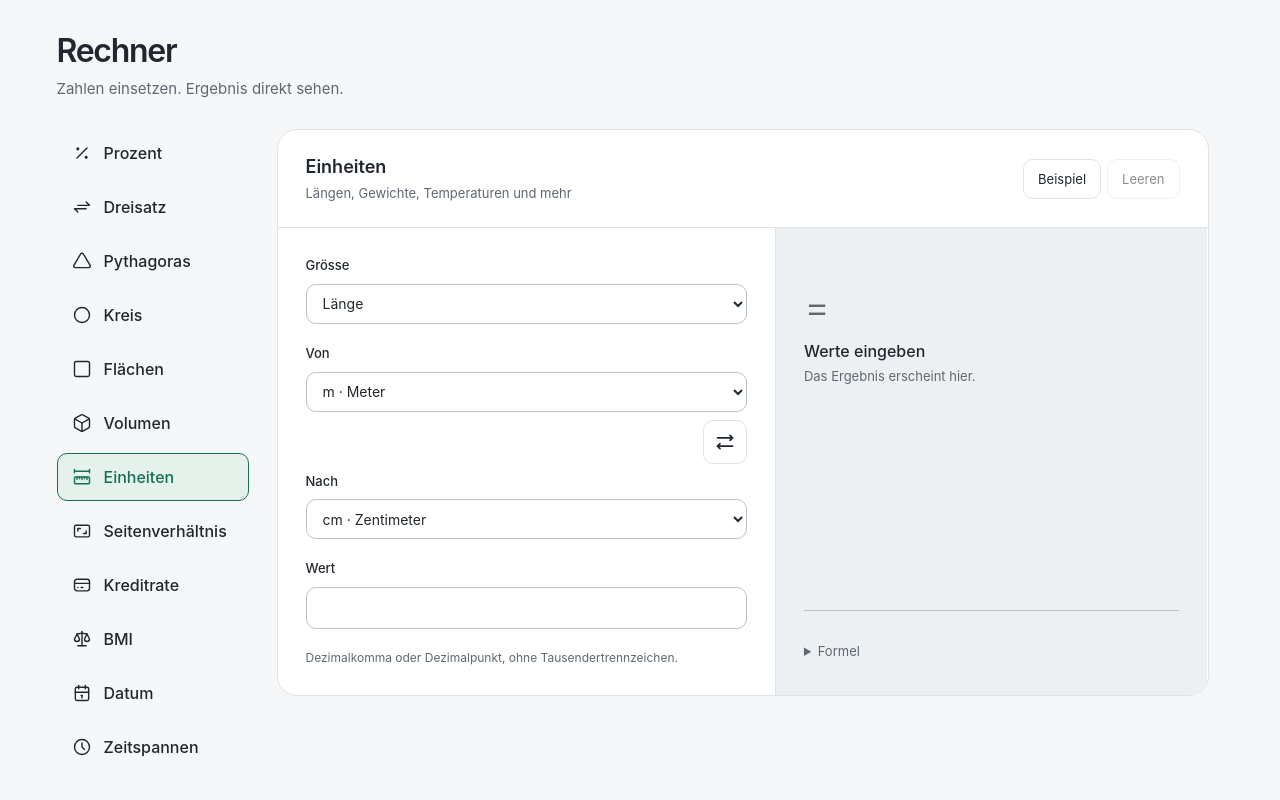
Scenario: calculator workspace › resets incompatible unit selections and swaps units without erasing the entered value
The width and height of the screenshot is (1280, 800).
In the field labelled "Wert": x=526, y=608 [306, 587, 747, 629], type "100"
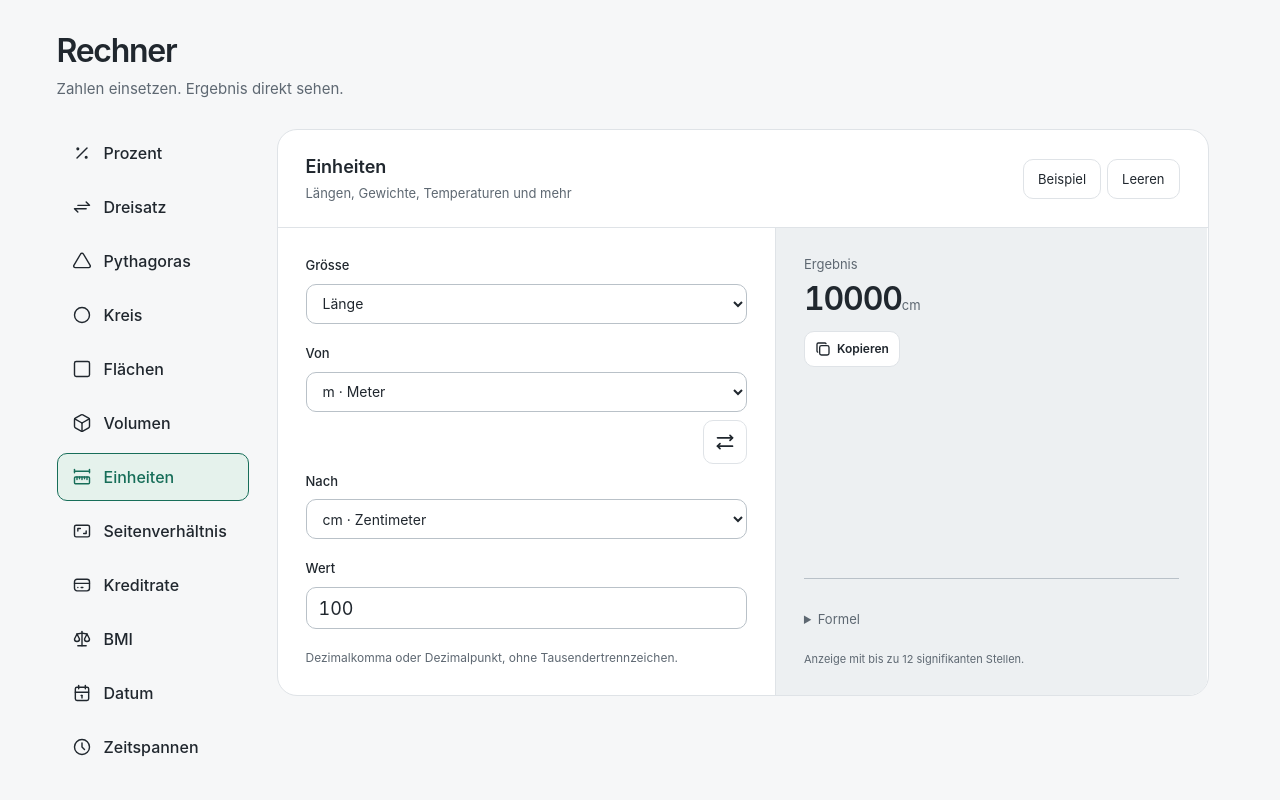
Click the button named "Einheiten tauschen": x=725, y=442 [703, 420, 747, 464]
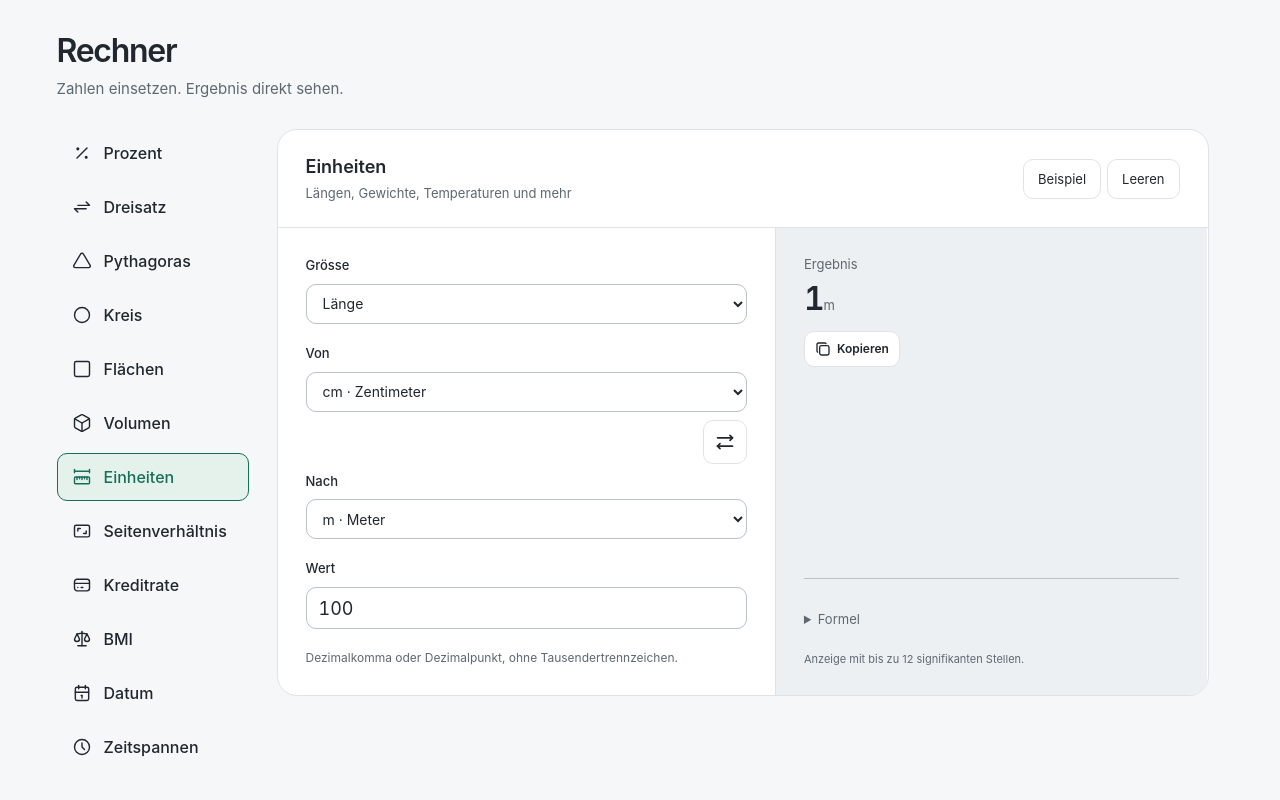
Expected: the dropdown labelled "Von" shows "cm · Zentimeter", [306, 372, 747, 412]
Expected: the element with test id "result-result" reads "1 m", [804, 279, 835, 318]
Select "Temperatur" in the dropdown labelled "Grösse": x=526, y=304 [306, 284, 747, 324]
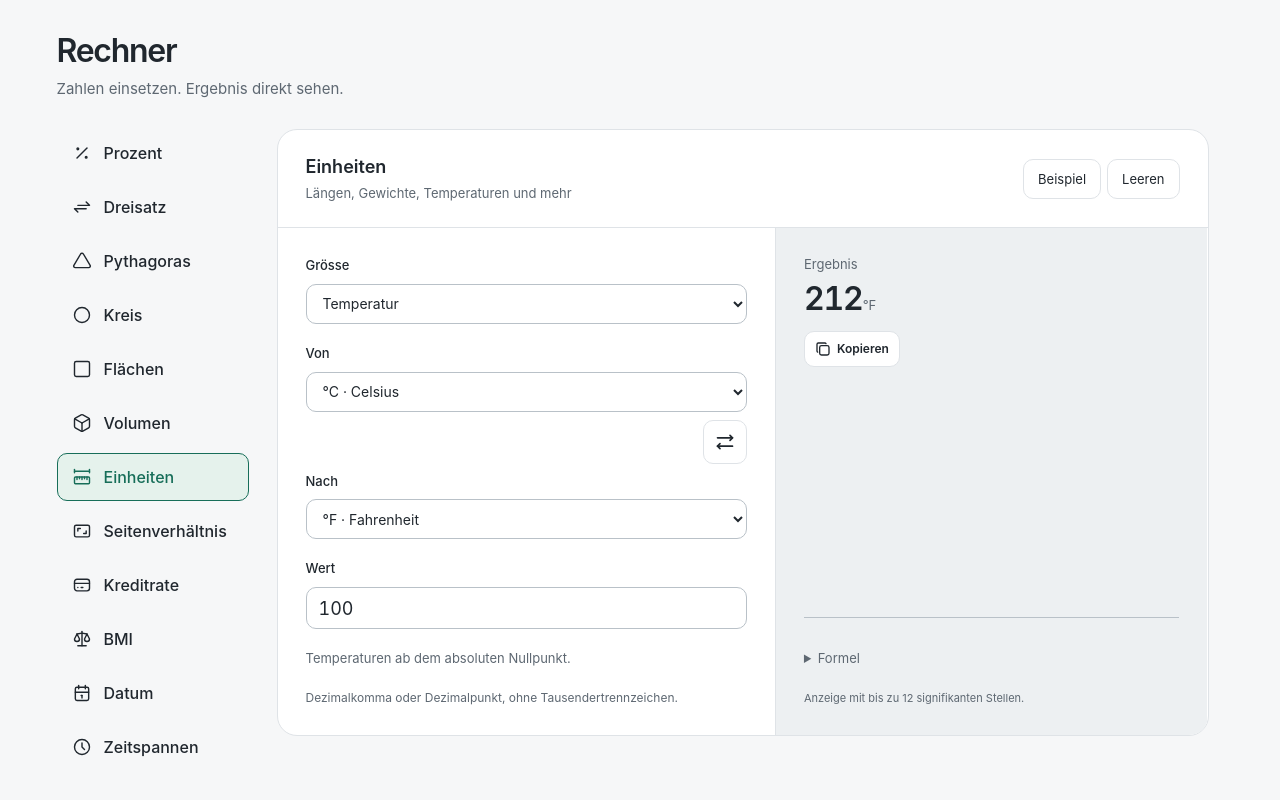
Expected: the dropdown labelled "Von" shows "°C · Celsius", [306, 372, 747, 412]
Expected: the dropdown labelled "Nach" shows "°F · Fahrenheit", [306, 499, 747, 540]
Expected: the element with test id "result-result" reads "212 °F", [804, 279, 876, 318]
